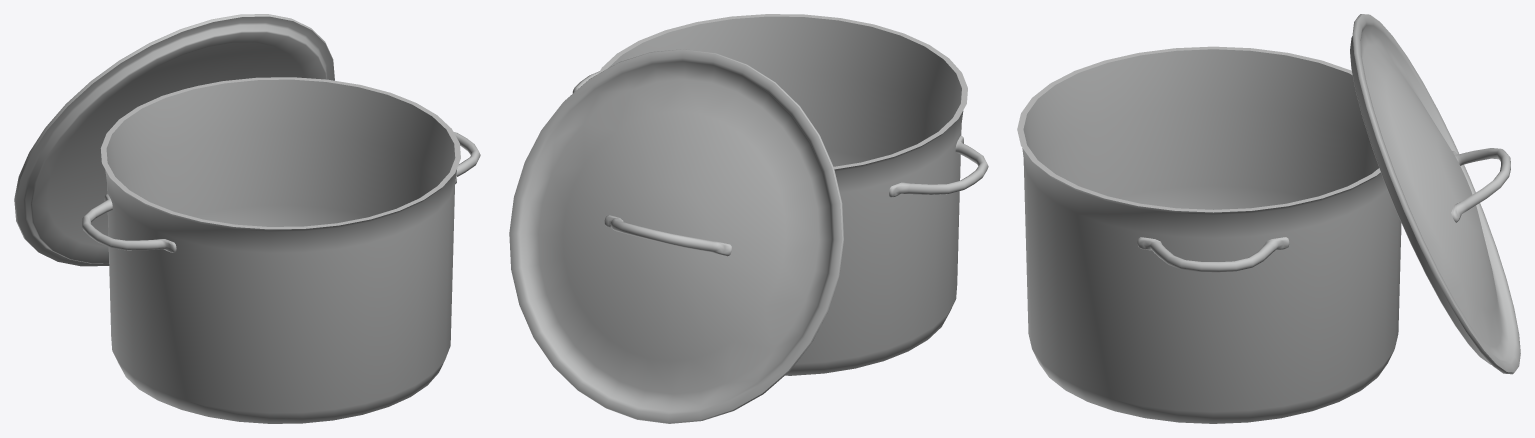
File: Prop_Kitchen_OpenPan_x1.fbx
The picture shows the model from 3 angles, left to right: view 1: azimuth 30°, elevation 25°; view 2: azimuth 150°, elevation 25°; view 3: azimuth 270°, elevation 25°; orthographic projection. The views are drawn at different scales.
Parts seen in each view (by area): view 1: Prop_Kitchen_OpenPan_x1; view 2: Prop_Kitchen_OpenPan_x1; view 3: Prop_Kitchen_OpenPan_x1.
Part boxes in pixels (x1,y1,x2,y2): Prop_Kitchen_OpenPan_x1: (14, 14, 480, 423); Prop_Kitchen_OpenPan_x1: (509, 14, 988, 423); Prop_Kitchen_OpenPan_x1: (1017, 14, 1520, 423).
Bounding box in the file's own units: 22.08 × 16.44 × 23.34.
